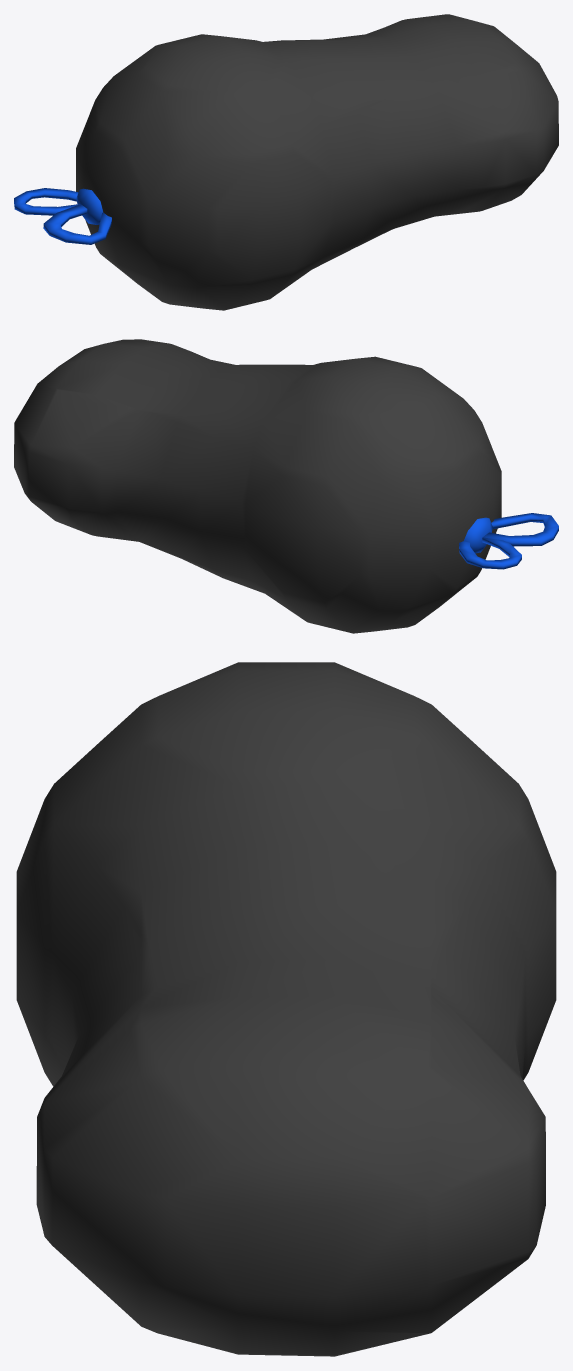
File: Bagged Corpse 4.fbx
The picture shows the model from 3 angles, top to bottom: view 1: azimuth 30°, elevation 25°; view 2: azimuth 150°, elevation 25°; view 3: azimuth 270°, elevation 25°; orthographic projection. The views are drawn at different scales.
Parts seen in each view (by area): view 1: Mball, Tie; view 2: Mball, Tie; view 3: Mball.
Boxes of the visible parts, box(x1,y1,x2,y2) form: Mball: box(76, 14, 558, 310); Tie: box(14, 188, 111, 244); Mball: box(14, 339, 501, 633); Tie: box(459, 513, 558, 569); Mball: box(16, 662, 556, 1356).
Size of the model in its own units: 114 by 53.05 by 53.05.
